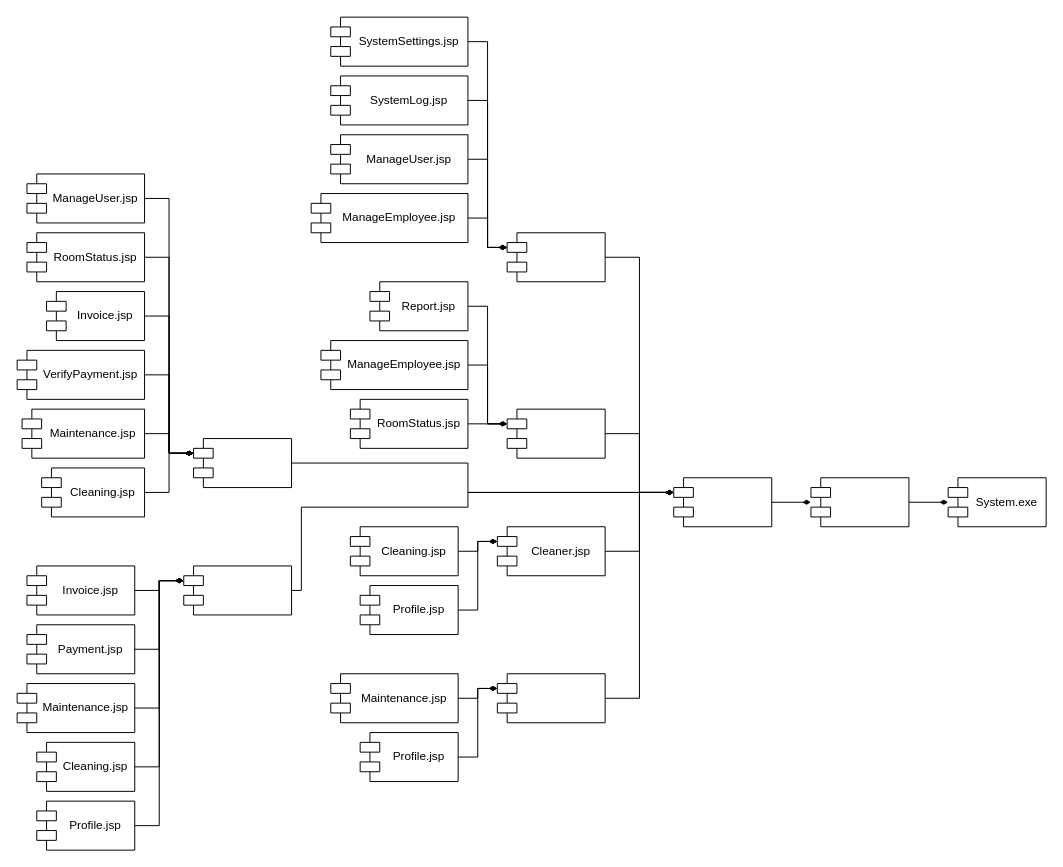
This 1063x867 diagram has some shape labels left out. The shapes that lost their labels are listed below. From the top down, each one's centre as x and y in pixels, then its label:
(x=555, y=257): Admin.jsp
(x=555, y=433): Manager.jsp
(x=242, y=463): Staff.jsp
(x=722, y=502): Index.jsp
(x=859, y=502): Login.jsp
(x=237, y=590): Tenant.jsp
(x=550, y=698): Technician.jsp
